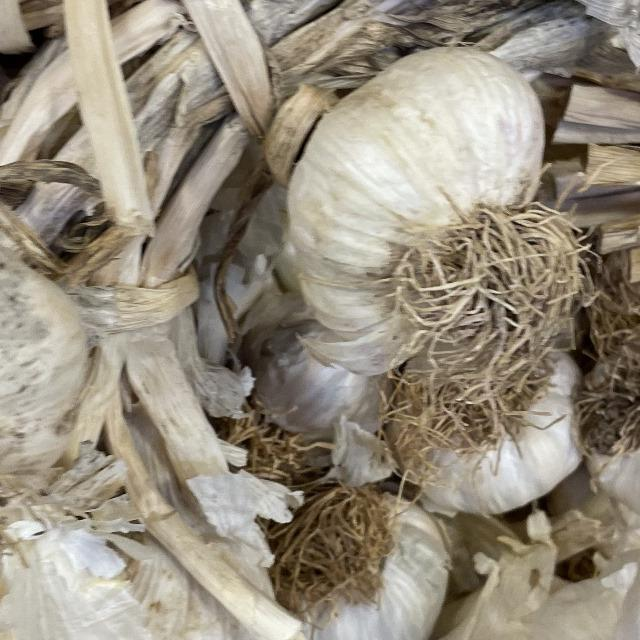garlic: (248, 20, 595, 405)
